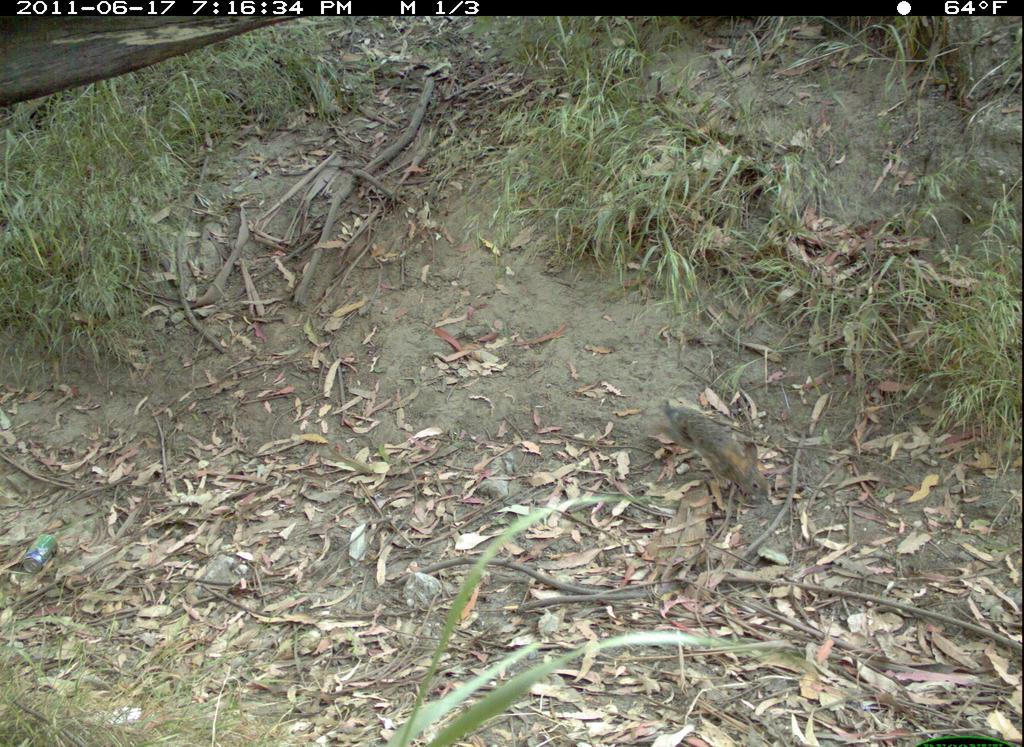rabbit: (648, 383, 784, 520)
